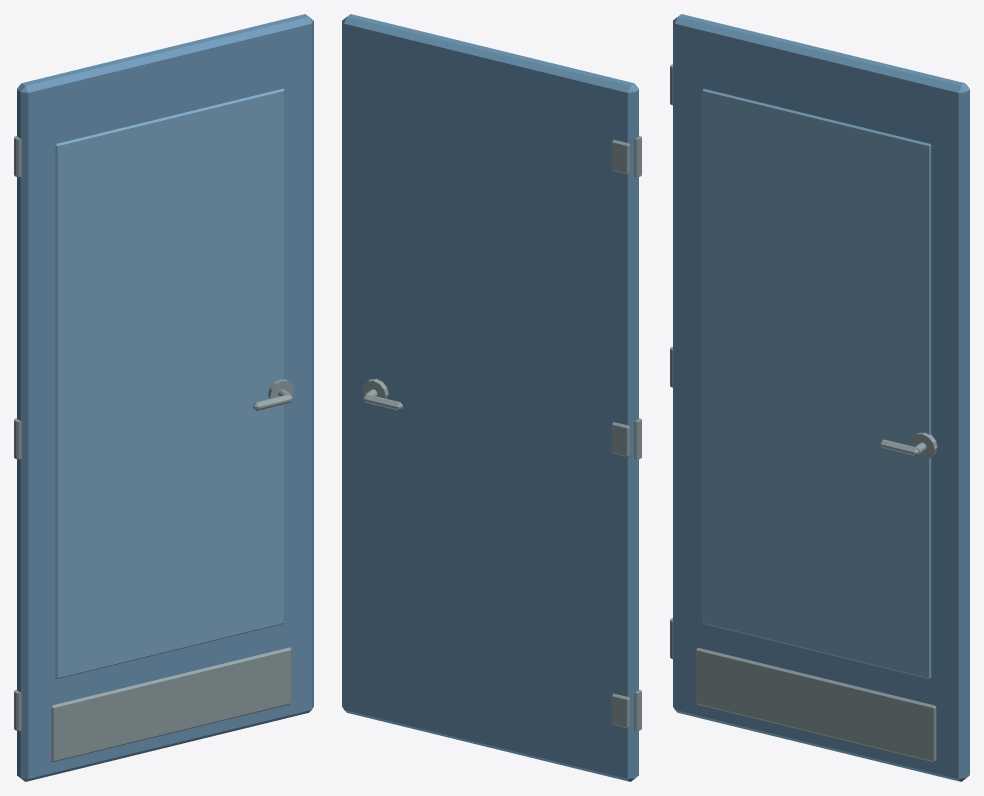
File: Structure-DressingDoor.fbx
3 renders of one model, left to right at view 1: azimuth 30°, elevation 25°; view 2: azimuth 150°, elevation 25°; view 3: azimuth 330°, elevation 25°, orthographic.
Parts seen in each view (by area): view 1: Inset Face, Solid Leaf, Kick Plate; view 2: Solid Leaf, Hinge Leaf.001, Hinge Leaf.002, Hinge Leaf; view 3: Inset Face, Solid Leaf, Kick Plate.
Part boxes in pixels (x1,y1,x2,y2): Inset Face: [55, 88, 284, 678]; Solid Leaf: [17, 14, 313, 781]; Kick Plate: [51, 647, 291, 761]; Solid Leaf: [342, 14, 638, 781]; Hinge Leaf.001: [611, 422, 629, 456]; Hinge Leaf.002: [611, 140, 629, 174]; Hinge Leaf: [611, 693, 629, 728]; Inset Face: [702, 88, 931, 678]; Solid Leaf: [673, 14, 969, 781]; Kick Plate: [695, 647, 936, 762].
Size of the model in its own units: 0.943 by 2.11 by 0.184.
